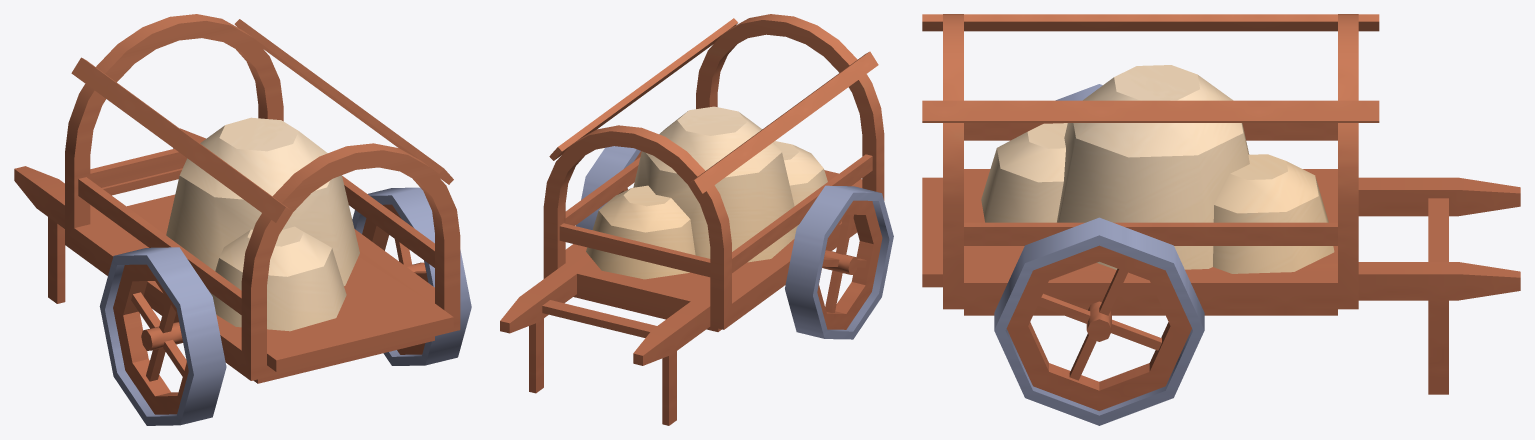
File: cartHigh.fbx
The picture shows the model from 3 angles, left to right: view 1: azimuth 30°, elevation 25°; view 2: azimuth 150°, elevation 25°; view 3: azimuth 270°, elevation 25°; orthographic projection. The views are drawn at different scales.
Visible parts, largest first — view 1: cartHigh, hay, wheel.003, wheel.004; view 2: cartHigh, hay, wheel.003, wheel.004; view 3: cartHigh, hay, wheel.004.
Part boxes in pixels (<box>): cartHigh: <box>14,14,460,383</box>; hay: <box>166,117,359,331</box>; wheel.003: <box>99,247,226,425</box>; wheel.004: <box>352,187,471,365</box>; cartHigh: <box>500,14,884,425</box>; hay: <box>586,106,827,279</box>; wheel.003: <box>785,185,893,339</box>; wheel.004: <box>576,146,641,229</box>; cartHigh: <box>922,14,1520,394</box>; hay: <box>981,65,1334,273</box>; wheel.004: <box>994,217,1204,425</box>.
Bounding box in the file's own units: 0.8623 × 1.44 × 0.8607.
